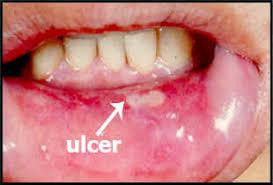Discoloration: (33, 41, 70, 81)
Ulcer: (125, 87, 176, 118)
